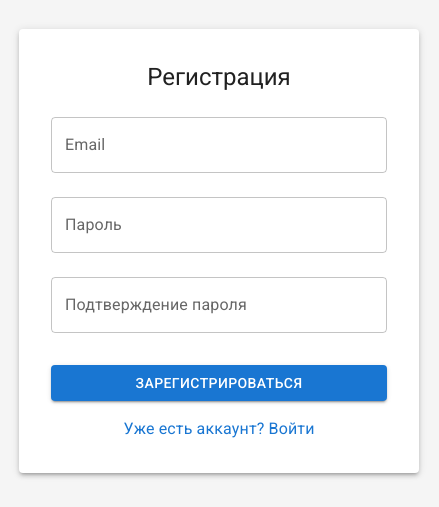
Test case: RegisterPage › shows error when passwords do not match
This screenshot has width=439, height=507.
Step 1. Type "test@test.com" into the field labelled "Email" → {"x": 219, "y": 145}, box [51,117,387,173]
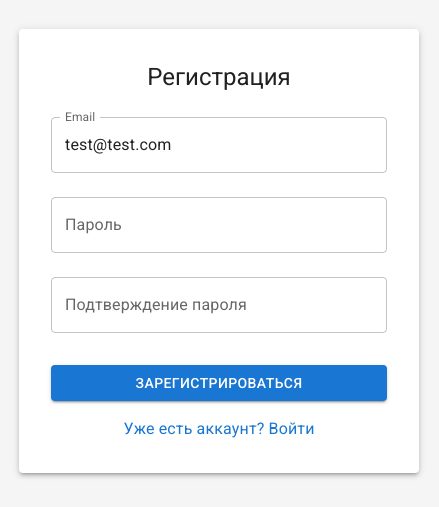
Step 2. Type "password123" into the password field labelled "Пароль" → {"x": 219, "y": 225}, box [51,197,387,253]
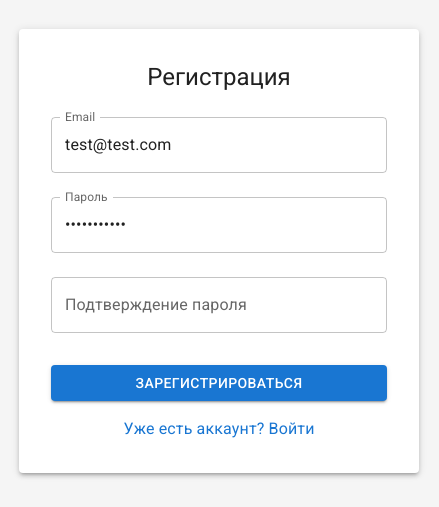
Step 3. Type "differentpassword" into the password field labelled "Подтверждение пароля" → {"x": 219, "y": 305}, box [51,277,387,333]
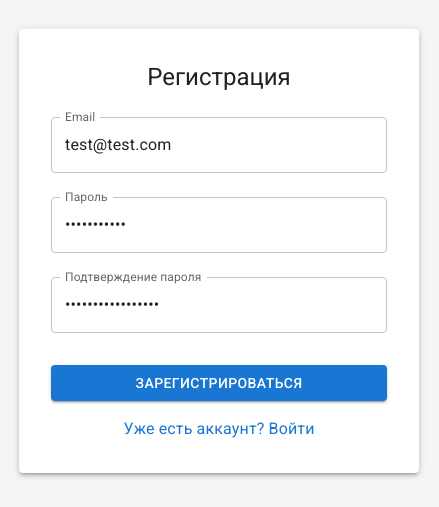
Step 4. Click the button "Зарегистрироваться" → {"x": 219, "y": 383}, box [51,365,387,402]
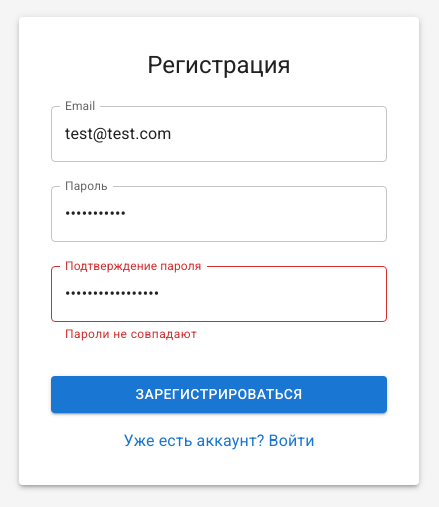
Expected: the text "Пароли не совпадают" is shown, [65,326,197,340]
